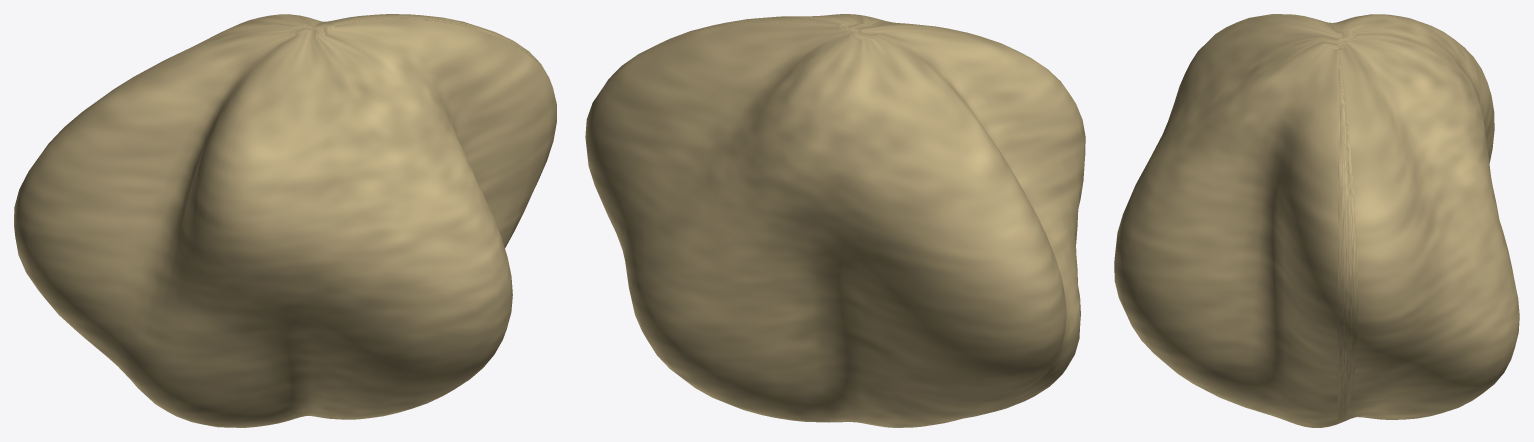
File: complete.glb
3 views of the same model, side by side, from view 1: azimuth 30°, elevation 25°; view 2: azimuth 150°, elevation 25°; view 3: azimuth 270°, elevation 25° (orthographic). The views are drawn at different scales.
Parts seen in each view (by area): view 1: membrana_mesh; view 2: membrana_mesh; view 3: membrana_mesh.
Part boxes in pixels (<box>): membrana_mesh: <box>14,14,556,427</box>; membrana_mesh: <box>585,14,1085,427</box>; membrana_mesh: <box>1114,14,1519,427</box>.
Size of the model in its own units: 2.34 by 1.7 by 1.7.
Materials: 4 (4 with a texture image).
